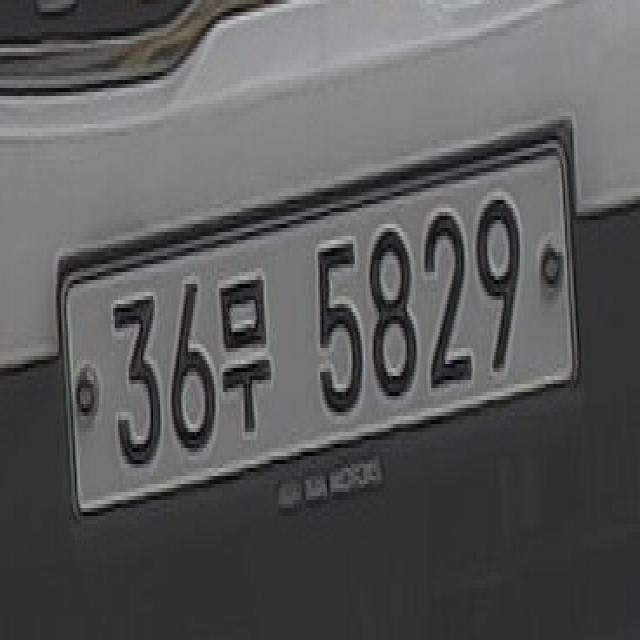2: (421, 208, 475, 388)
3: (110, 292, 164, 468)
5: (310, 224, 365, 416)
6: (169, 276, 217, 456)
8: (367, 224, 417, 400)
9: (475, 192, 523, 376)
license_plate: (55, 132, 582, 524)
mu: (219, 264, 275, 448)
